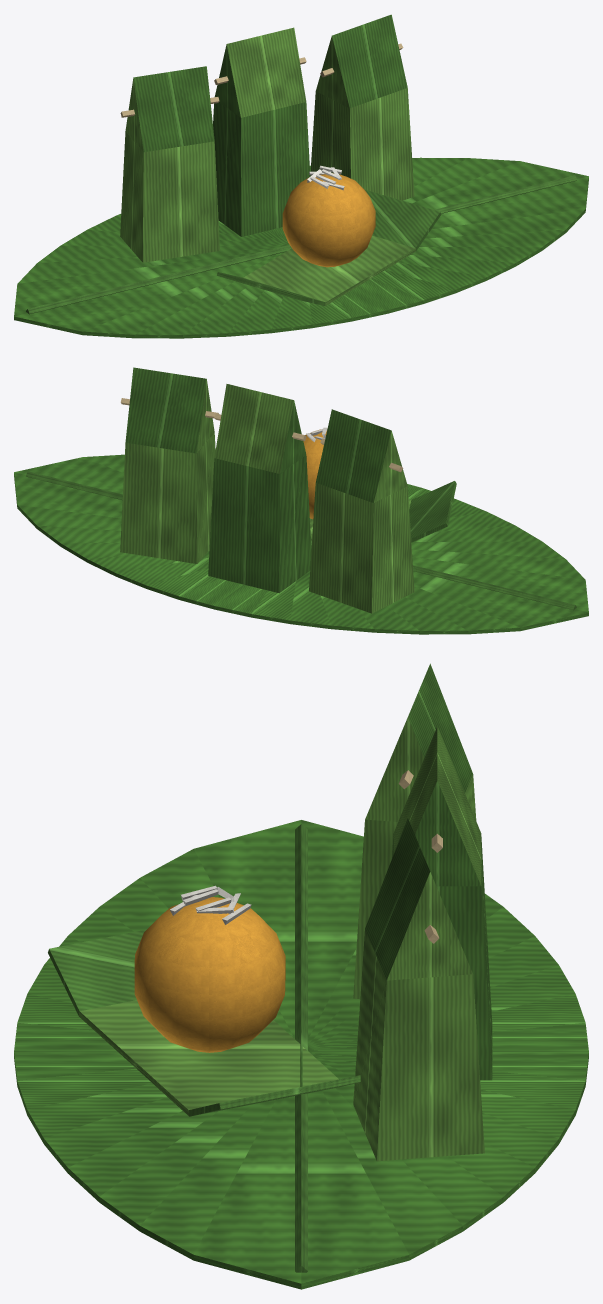
The model's file is LeafSweets.fbx.
3 renders of one model, top to bottom at view 1: azimuth 30°, elevation 25°; view 2: azimuth 150°, elevation 25°; view 3: azimuth 270°, elevation 25°, orthographic. The views are drawn at different scales.
Visible parts, largest first — view 1: Wrapped, LeafTray, OpenWrap, SweetCake; view 2: Wrapped, LeafTray, OpenWrap, SweetCake; view 3: LeafTray, Wrapped, SweetCake, OpenWrap.
Part boxes in pixels (bbox=[...]): Wrapped: bbox=[120, 14, 414, 262]; LeafTray: bbox=[14, 157, 588, 338]; OpenWrap: bbox=[217, 190, 441, 305]; SweetCake: bbox=[282, 165, 375, 267]; Wrapped: bbox=[120, 367, 414, 613]; LeafTray: bbox=[14, 454, 588, 634]; OpenWrap: bbox=[310, 481, 456, 542]; SweetCake: bbox=[303, 427, 327, 519]; LeafTray: bbox=[14, 820, 588, 1289]; Wrapped: bbox=[353, 663, 492, 1161]; SweetCake: bbox=[134, 885, 285, 1052]; OpenWrap: bbox=[48, 929, 360, 1116].
Size of the model in its own units: 42 by 12.85 by 22.
1 material, 1 textured.
